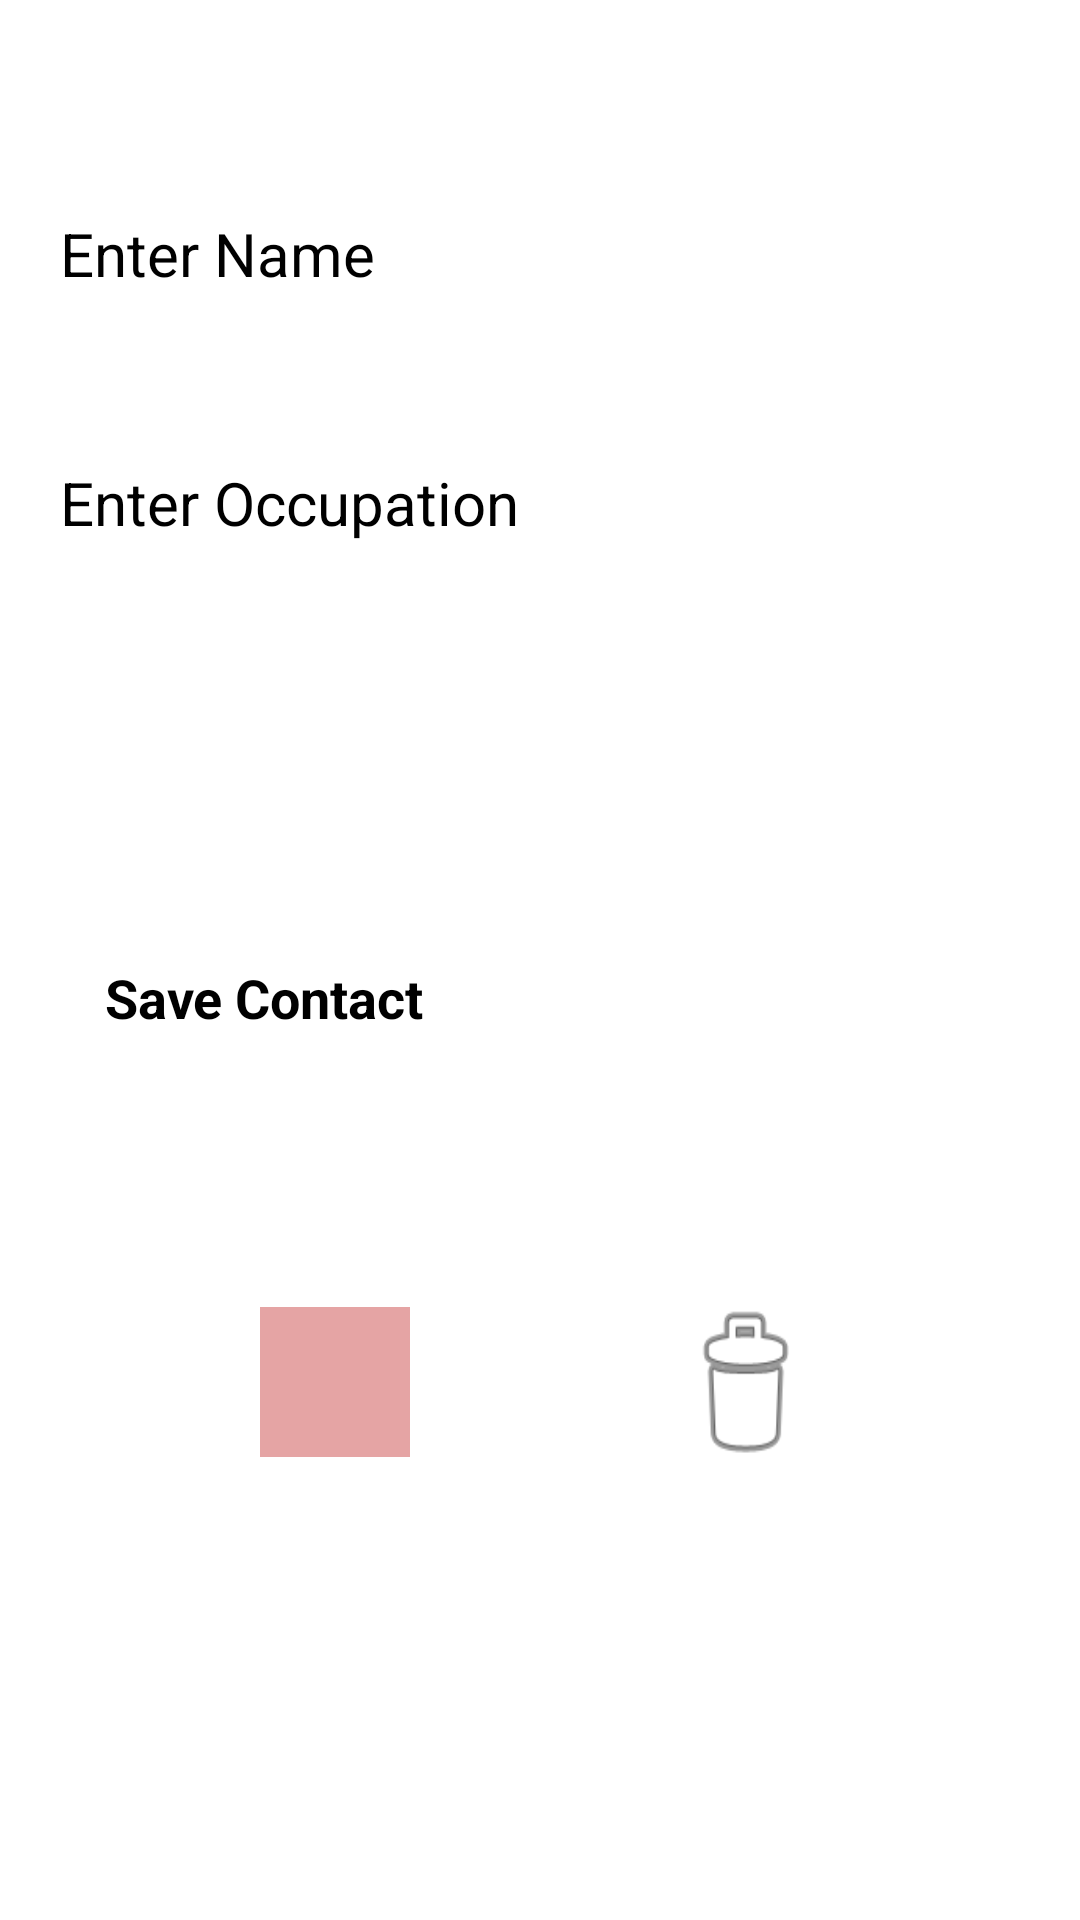

Icons on this 1080px x 1920px Android screen, each with its box as (x1,y1,x2,y2):
delete: (703,1312,788,1453)
